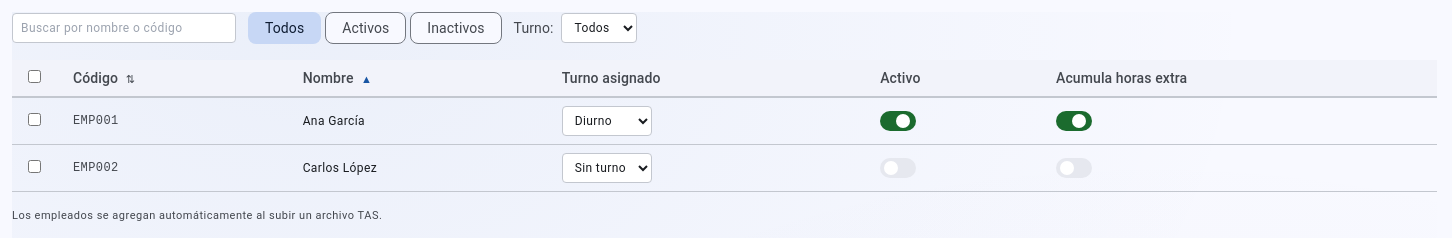
Test: EmployeesTab clear search › clears the search and restores all rows when the X is clicked
The width and height of the screenshot is (1452, 238).
Expected: the text "EMP001" is shown, [57,97,287,144]
In the field named "buscar empleado": (124, 28) [12,13,236,43], type "ana"
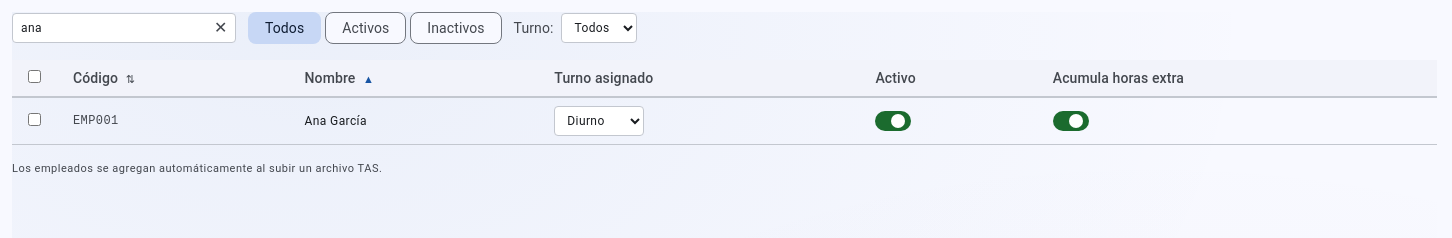
Result: the text "Carlos López" is gone
Click the button named "limpiar búsqueda": (221, 28) [214,20,228,36]
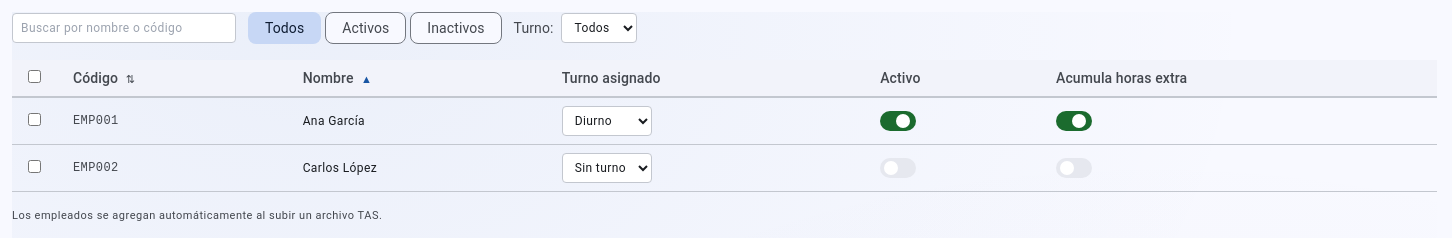
Expected: the text "Ana García" is shown, [287,97,546,144]
Result: the field named "buscar empleado" is empty at [12,13,236,43]
Result: the text "Carlos López" is shown at [287,144,546,192]
